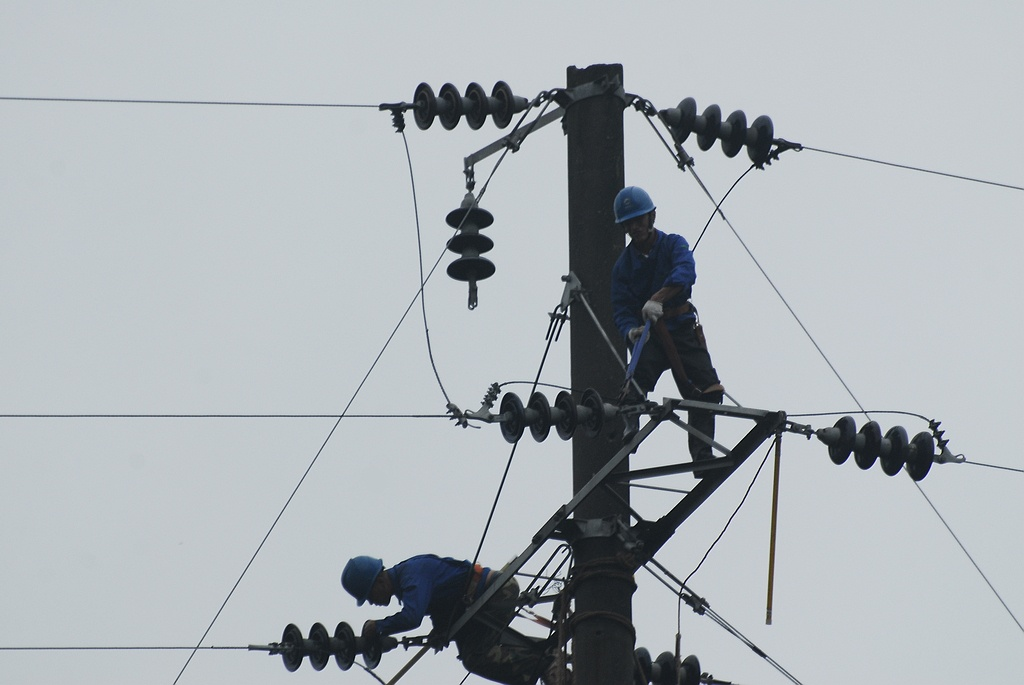blue: (337, 555, 393, 609), (608, 184, 657, 241)
